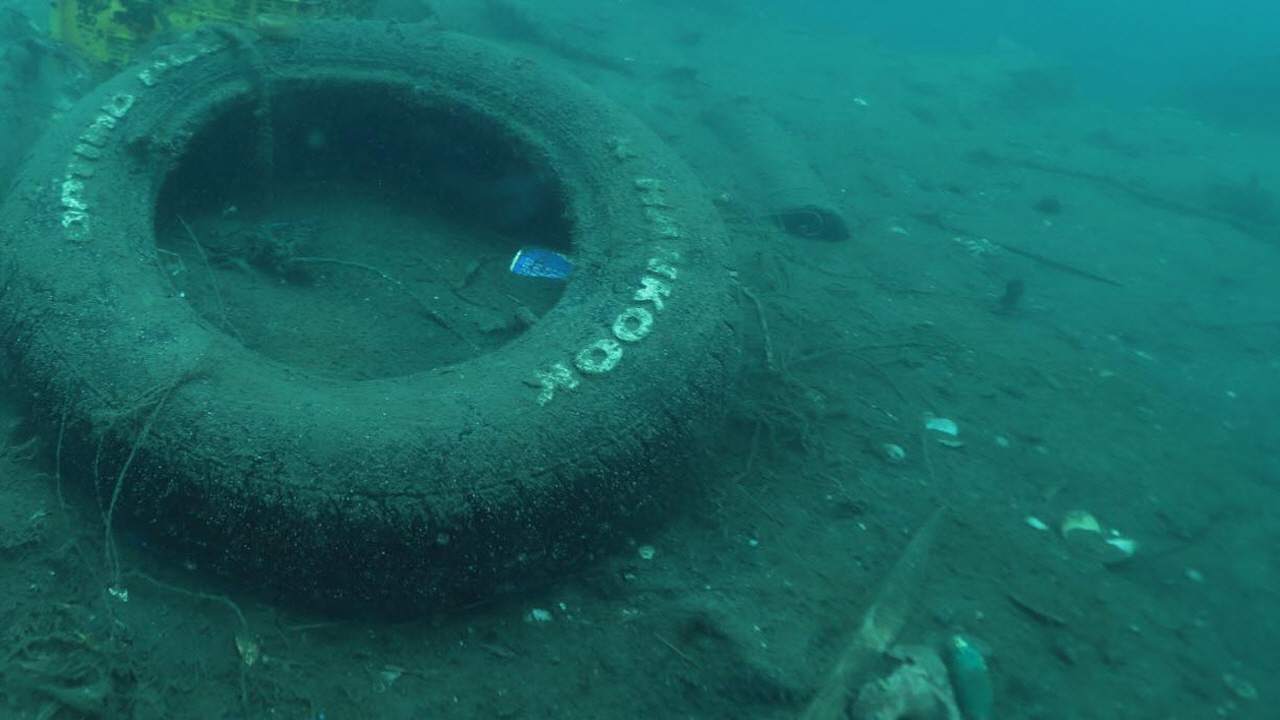tire: (0, 20, 747, 616)
